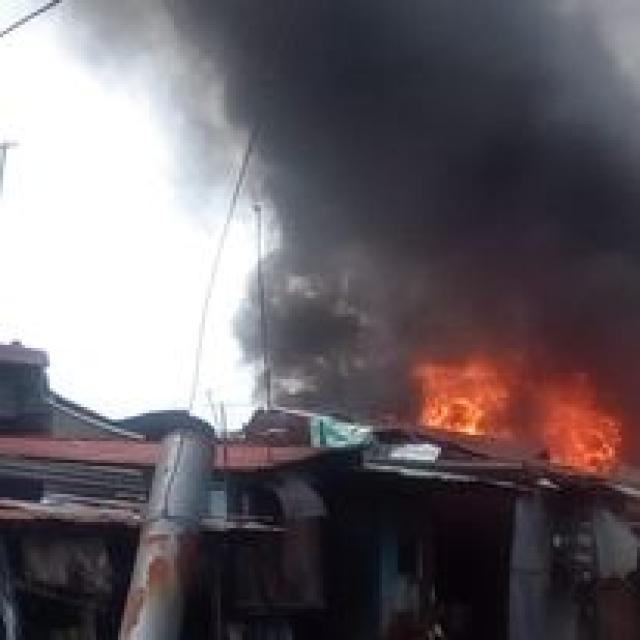Fire: (409, 351, 623, 472)
Smoke: (149, 0, 640, 435)
